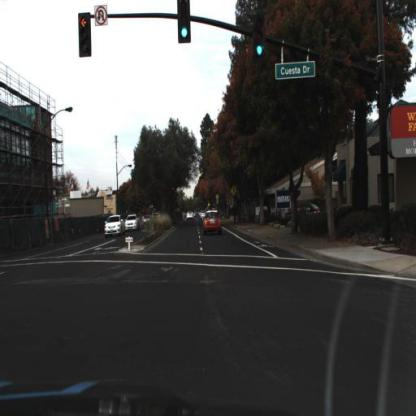car: (102, 211, 127, 239), (202, 208, 227, 236), (125, 212, 142, 235)
trafficLight-Green: (253, 17, 267, 61), (179, 2, 191, 46)
trafficLight-RedLeft: (81, 14, 91, 57)
